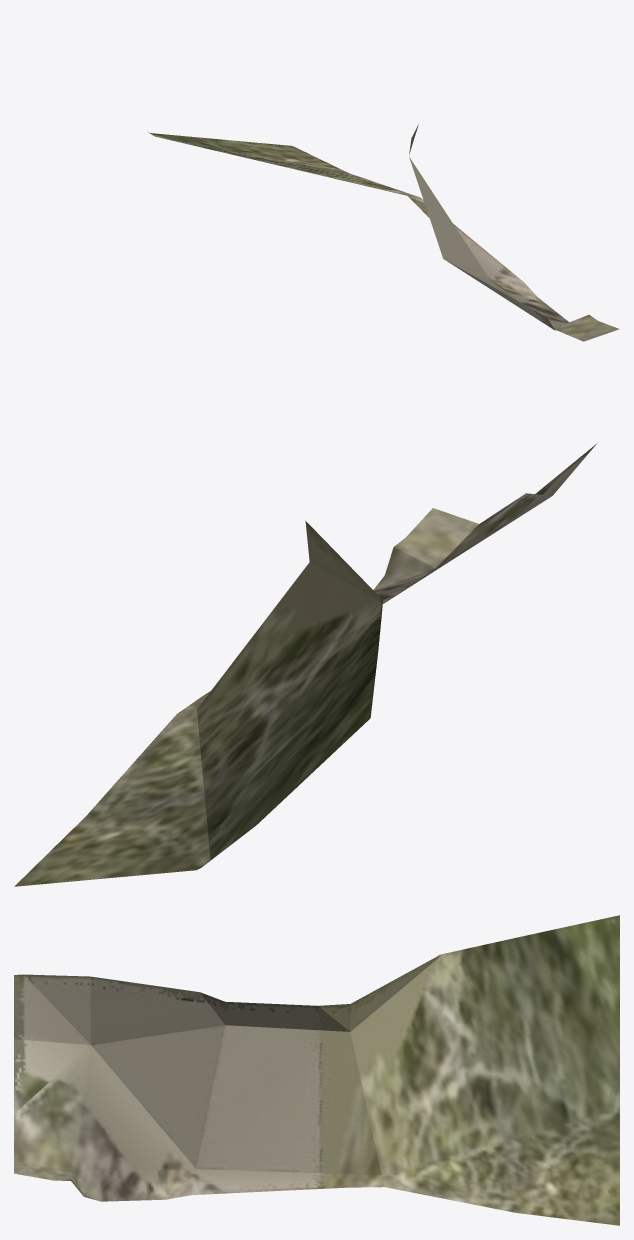
3 views of the same model, one above another, from view 1: azimuth 30°, elevation 25°; view 2: azimuth 150°, elevation 25°; view 3: azimuth 270°, elevation 25° (orthographic). The views are drawn at different scales.
Size of the model in its own units: 2.9 by 1.98 by 5.9.
1 material, 1 textured.
